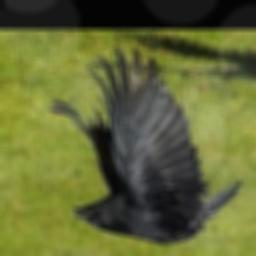Crow: (48, 46, 241, 244)
